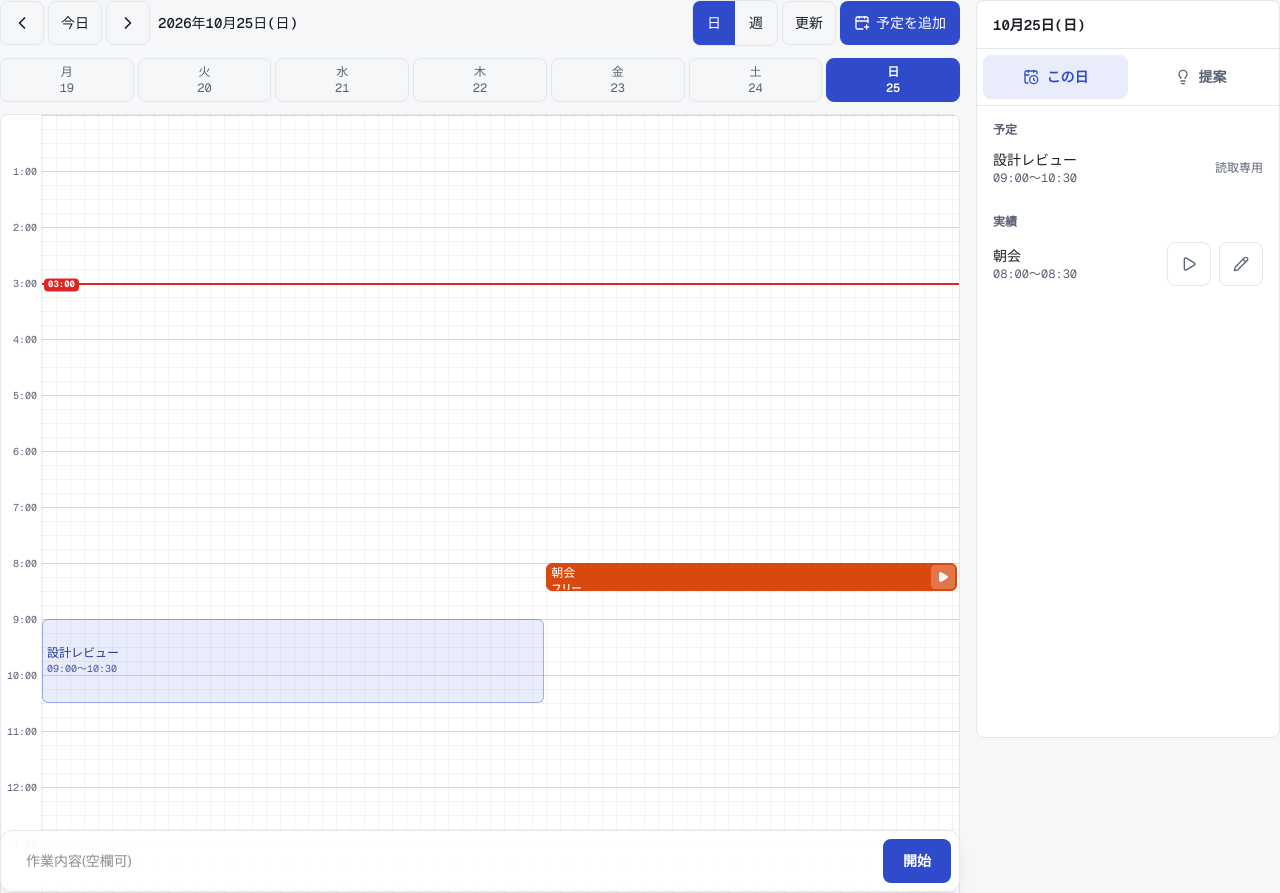
Scenario: 編集パネルの保存(S12/S13) › S12: 保存が成功するとパネルが閉じてrouter.refreshが呼ばれる
The width and height of the screenshot is (1280, 893).
Click the button with aria-label "朝会の実績を編集(フリー)" at (563, 573), box left=546, top=563, right=957, bottom=591
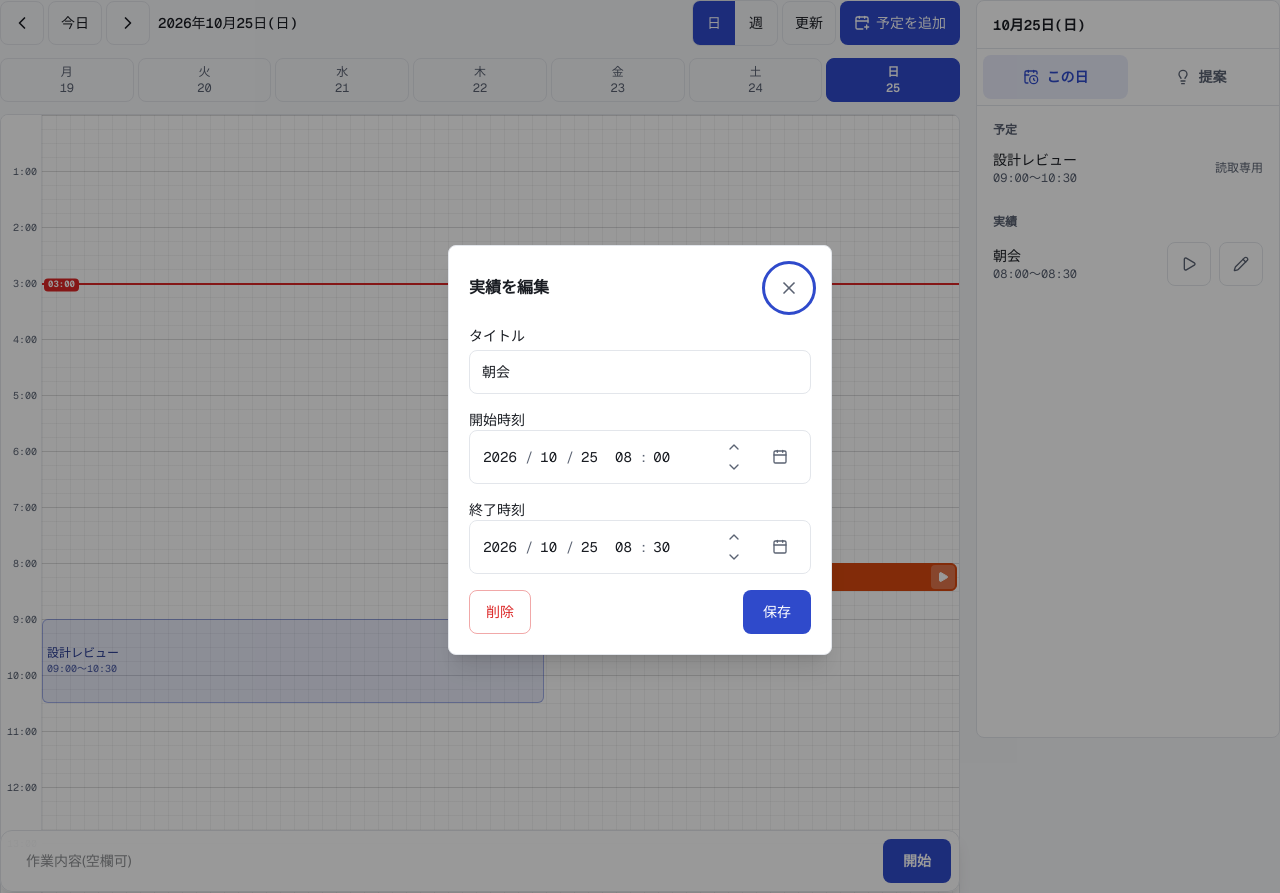
Click the button "保存" at (777, 612), box left=743, top=590, right=811, bottom=634
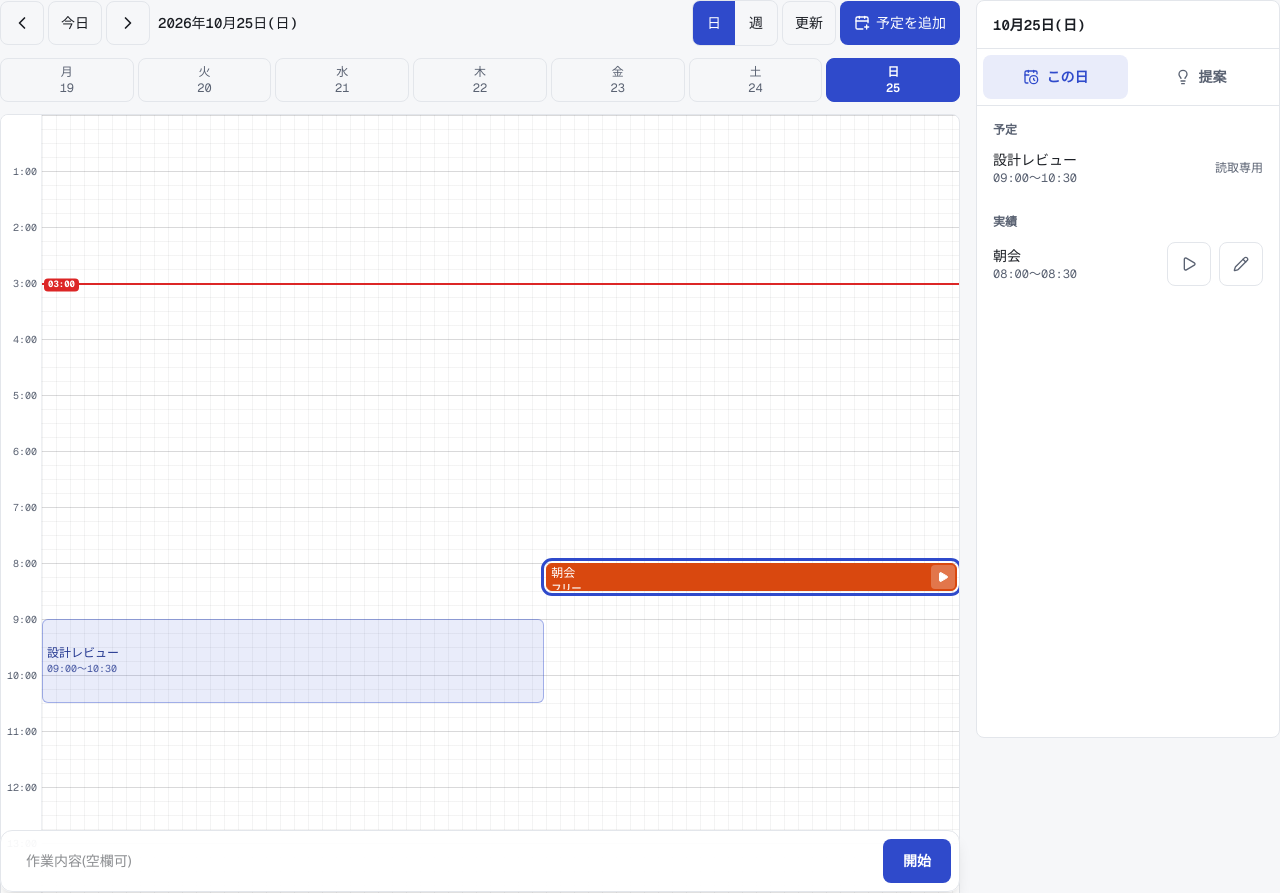
Now the dialog is gone
